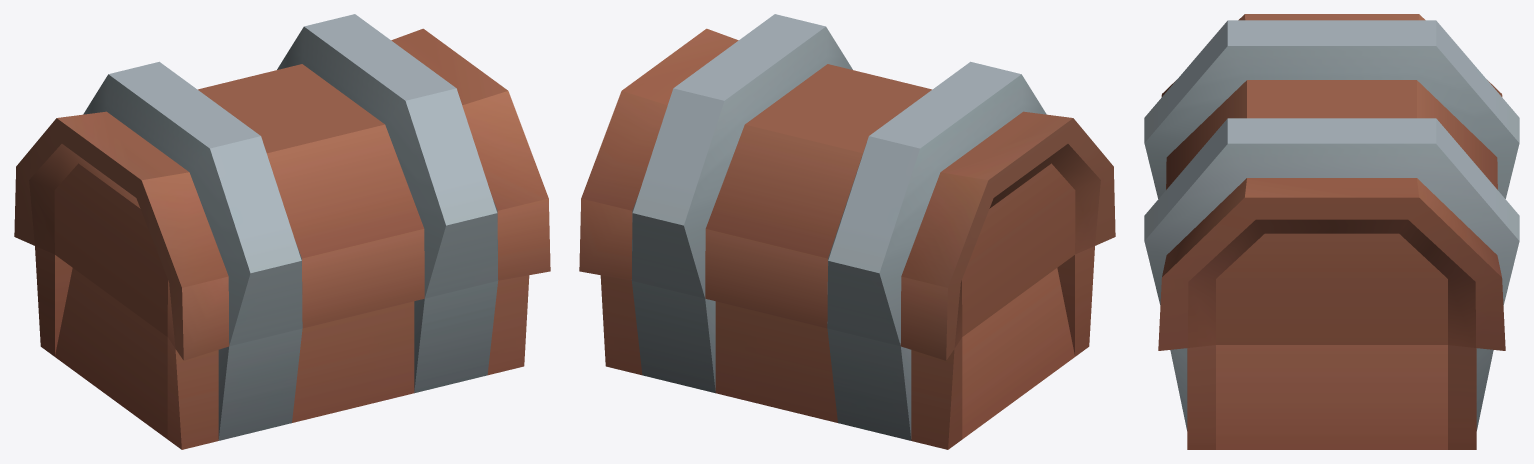
Rendered from trunk_small_c.glb.
3 renders of one model, left to right at view 1: azimuth 30°, elevation 25°; view 2: azimuth 150°, elevation 25°; view 3: azimuth 270°, elevation 25°, orthographic. The views are drawn at different scales.
Visible parts, largest first — view 1: trunk_small_C; view 2: trunk_small_C; view 3: trunk_small_C.
Boxes of the visible parts, x1,y1,x2,y2 form: trunk_small_C: (14,14,550,449); trunk_small_C: (579,14,1115,449); trunk_small_C: (1144,14,1519,449).
Size of the model in its own units: 0.6754 by 0.4843 by 0.5834.
1 material, 1 textured.
